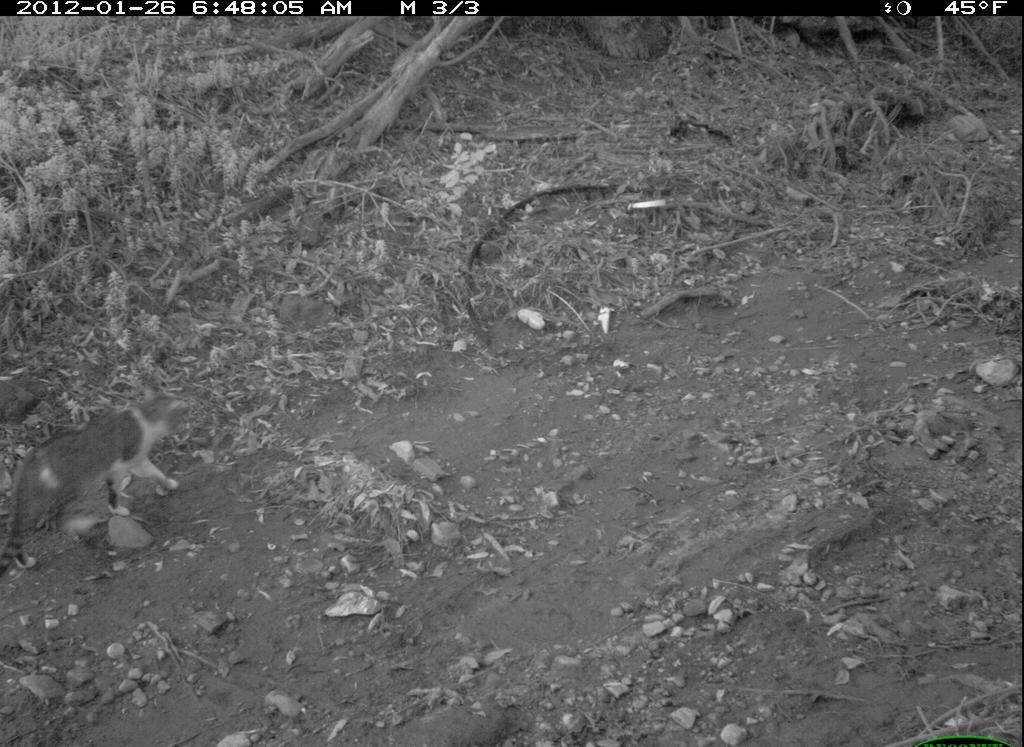cat: (1, 379, 213, 575)
